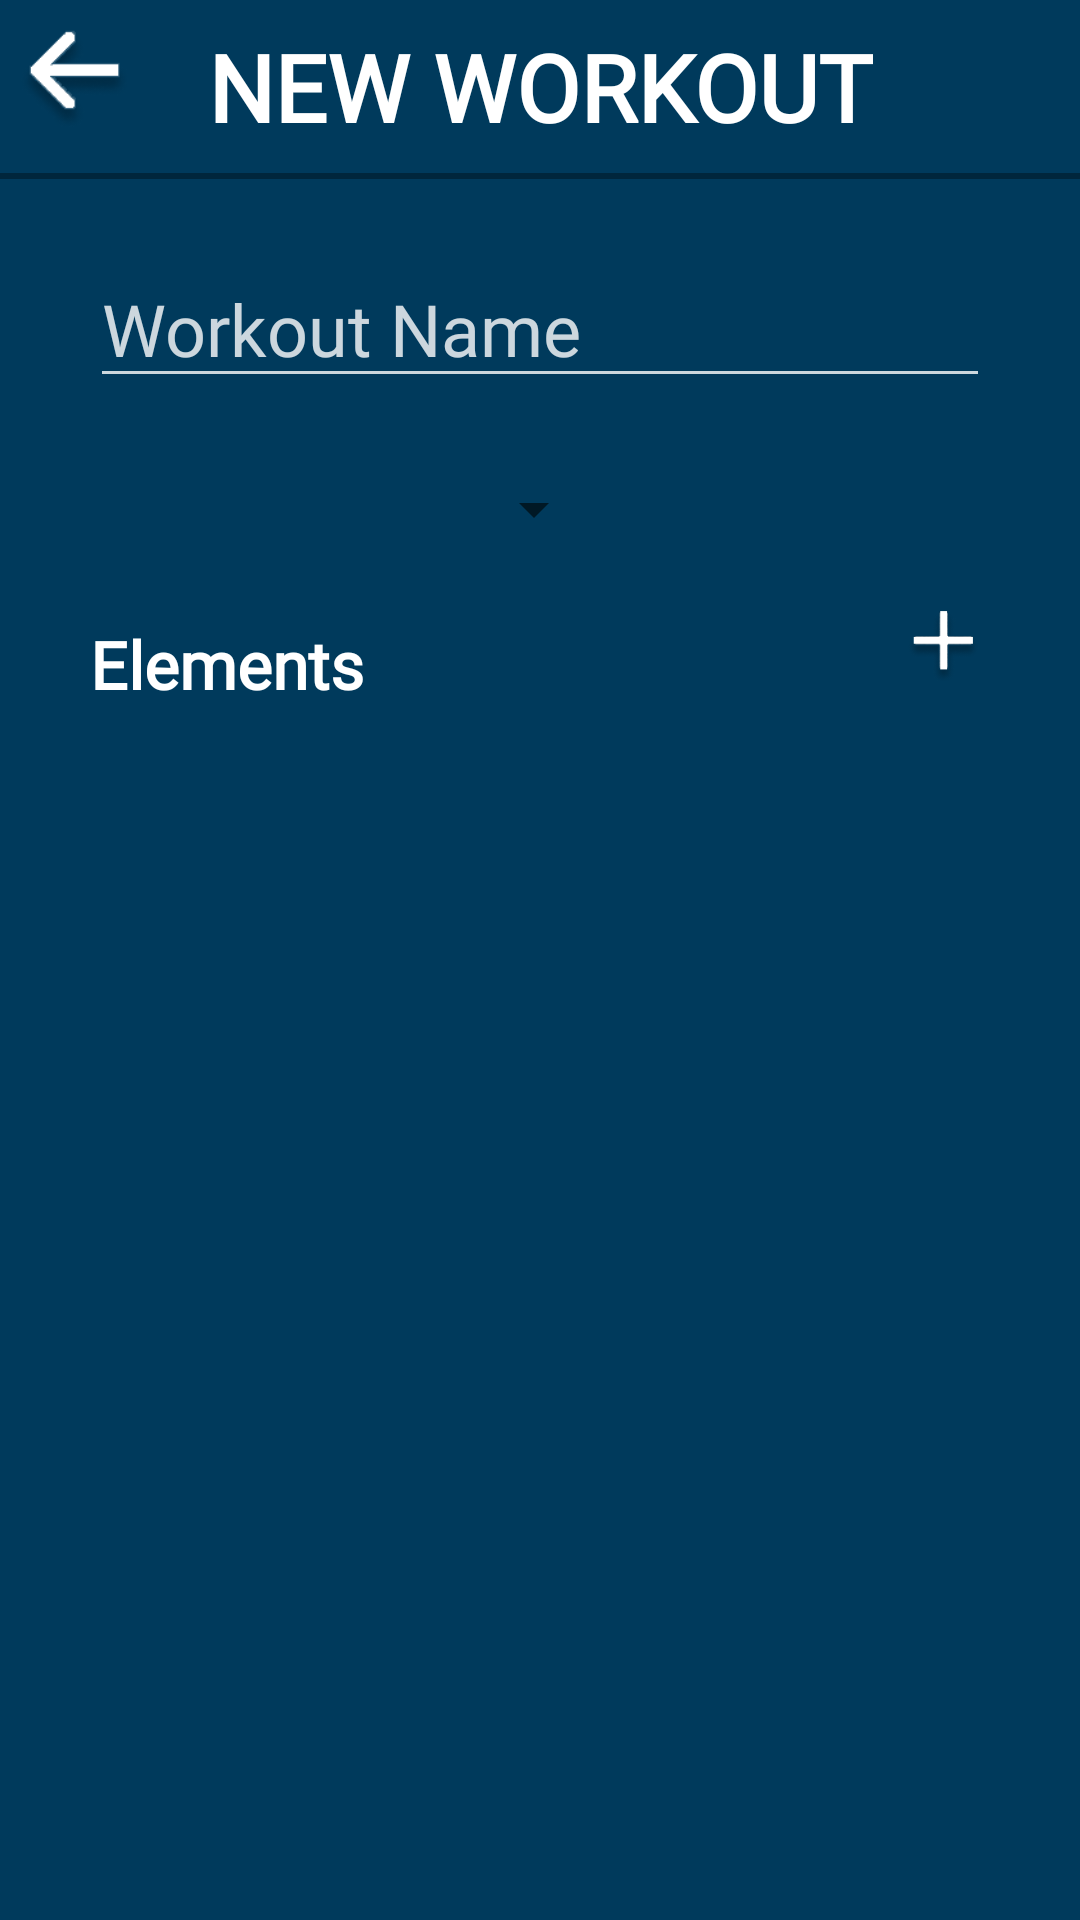

Where to tap for icons on this 1080px×1920px app screen, as [x,y]:
Add Athlete: [943,640]
Back: [74,70]
